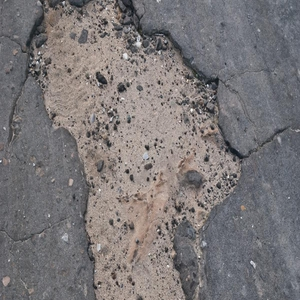pothole: (29, 1, 236, 299)
